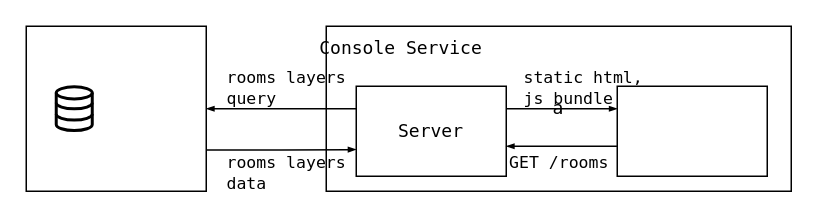
This 818x218 diagram has some shape labels left out. The shapes that lost their labels are listed below. From the top down, each one's box as (x1, y1, x2, y2) in pixels, then its label:
(25, 25, 206, 191): DB
(616, 85, 767, 176): Client
